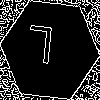L: (25, 25, 55, 73)
